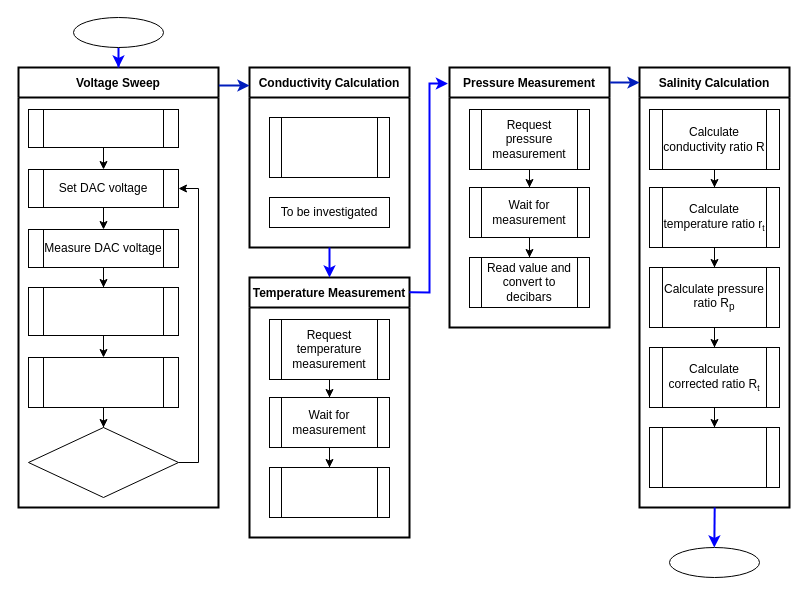
This 807x595 diagram has some shape labels left out. The shapes that lost their labels are listed below. From the top down, each one's centre as x and y in pixels, then its label:
At (118,32): "Start".
At (103,128): "Set R1 resistor".
At (329,147): "Map voltage samples to a conductivity".
At (103,311): "Measuring calibration resistor voltage".
At (103,382): "Measure electrode voltage bidirectionally".
At (103,462): "Loop from min to max voltage".
At (714,457): "Calculate salinity".
At (329,492): "Read value and convert to double".
At (714,562): "End".
